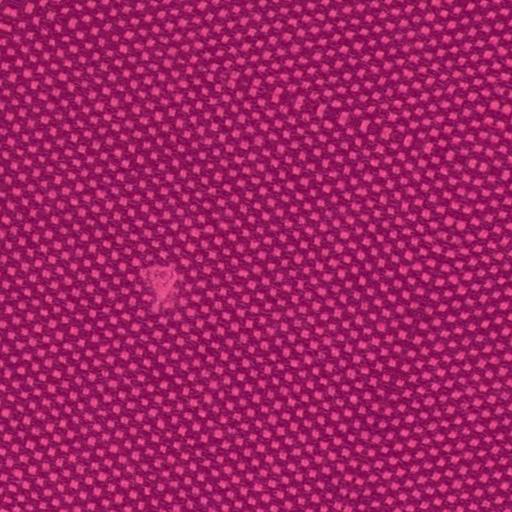knot: (134, 257, 193, 315)
